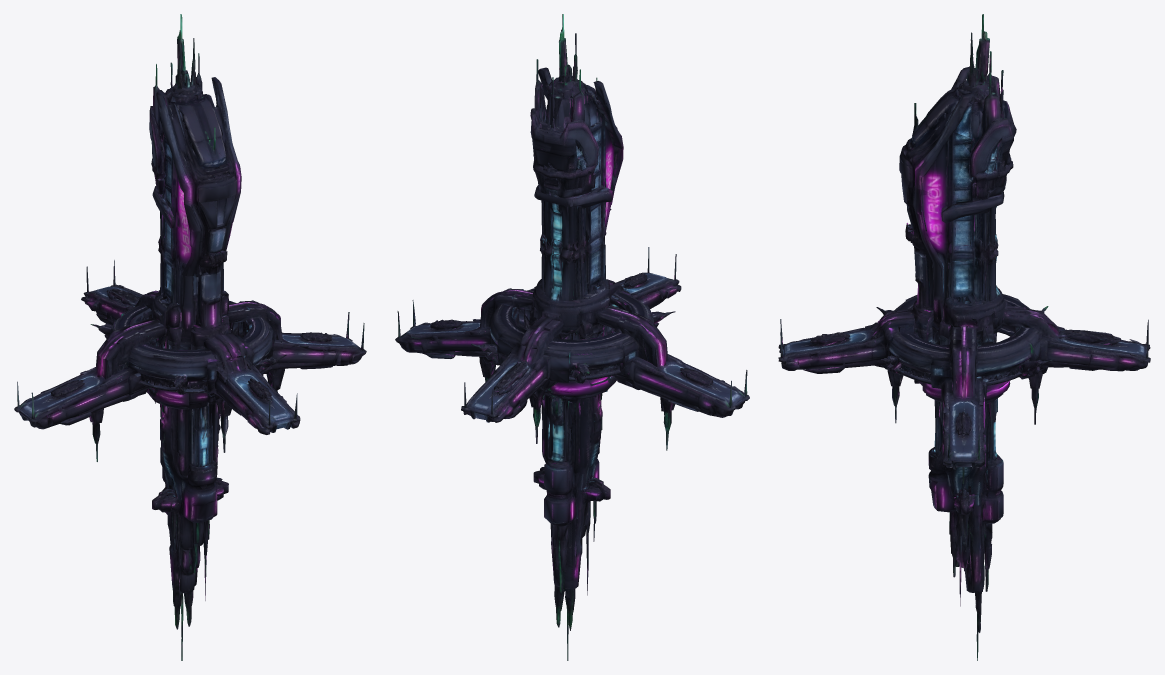
3 renders of one model, left to right at view 1: azimuth 30°, elevation 25°; view 2: azimuth 150°, elevation 25°; view 3: azimuth 270°, elevation 25°, orthographic.
Visible parts, largest first — view 1: base; view 2: base; view 3: base.
Boxes of the visible parts, left/top/right/bottom form: base: left=14, top=14, right=366, bottom=660; base: left=395, top=14, right=749, bottom=660; base: left=778, top=14, right=1150, bottom=660.
Bounding box in the file's own units: 1.05 × 1.92 × 0.9982.
Materials: 1 (1 with a texture image).
